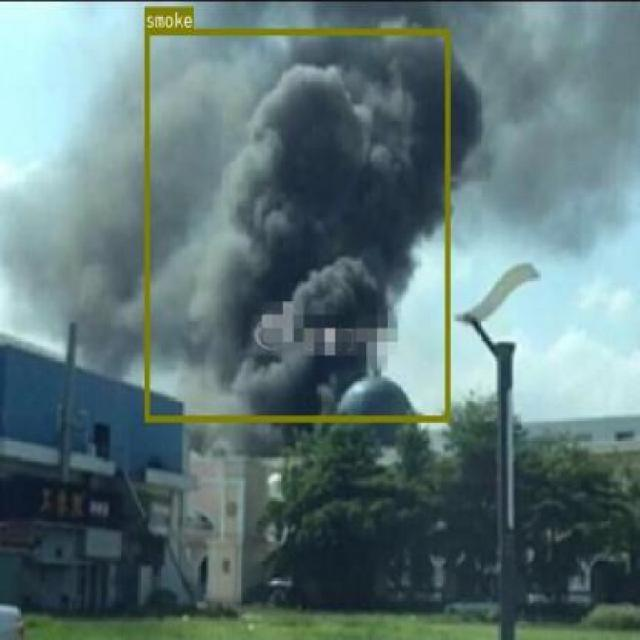Smoke: (144, 28, 448, 421)
